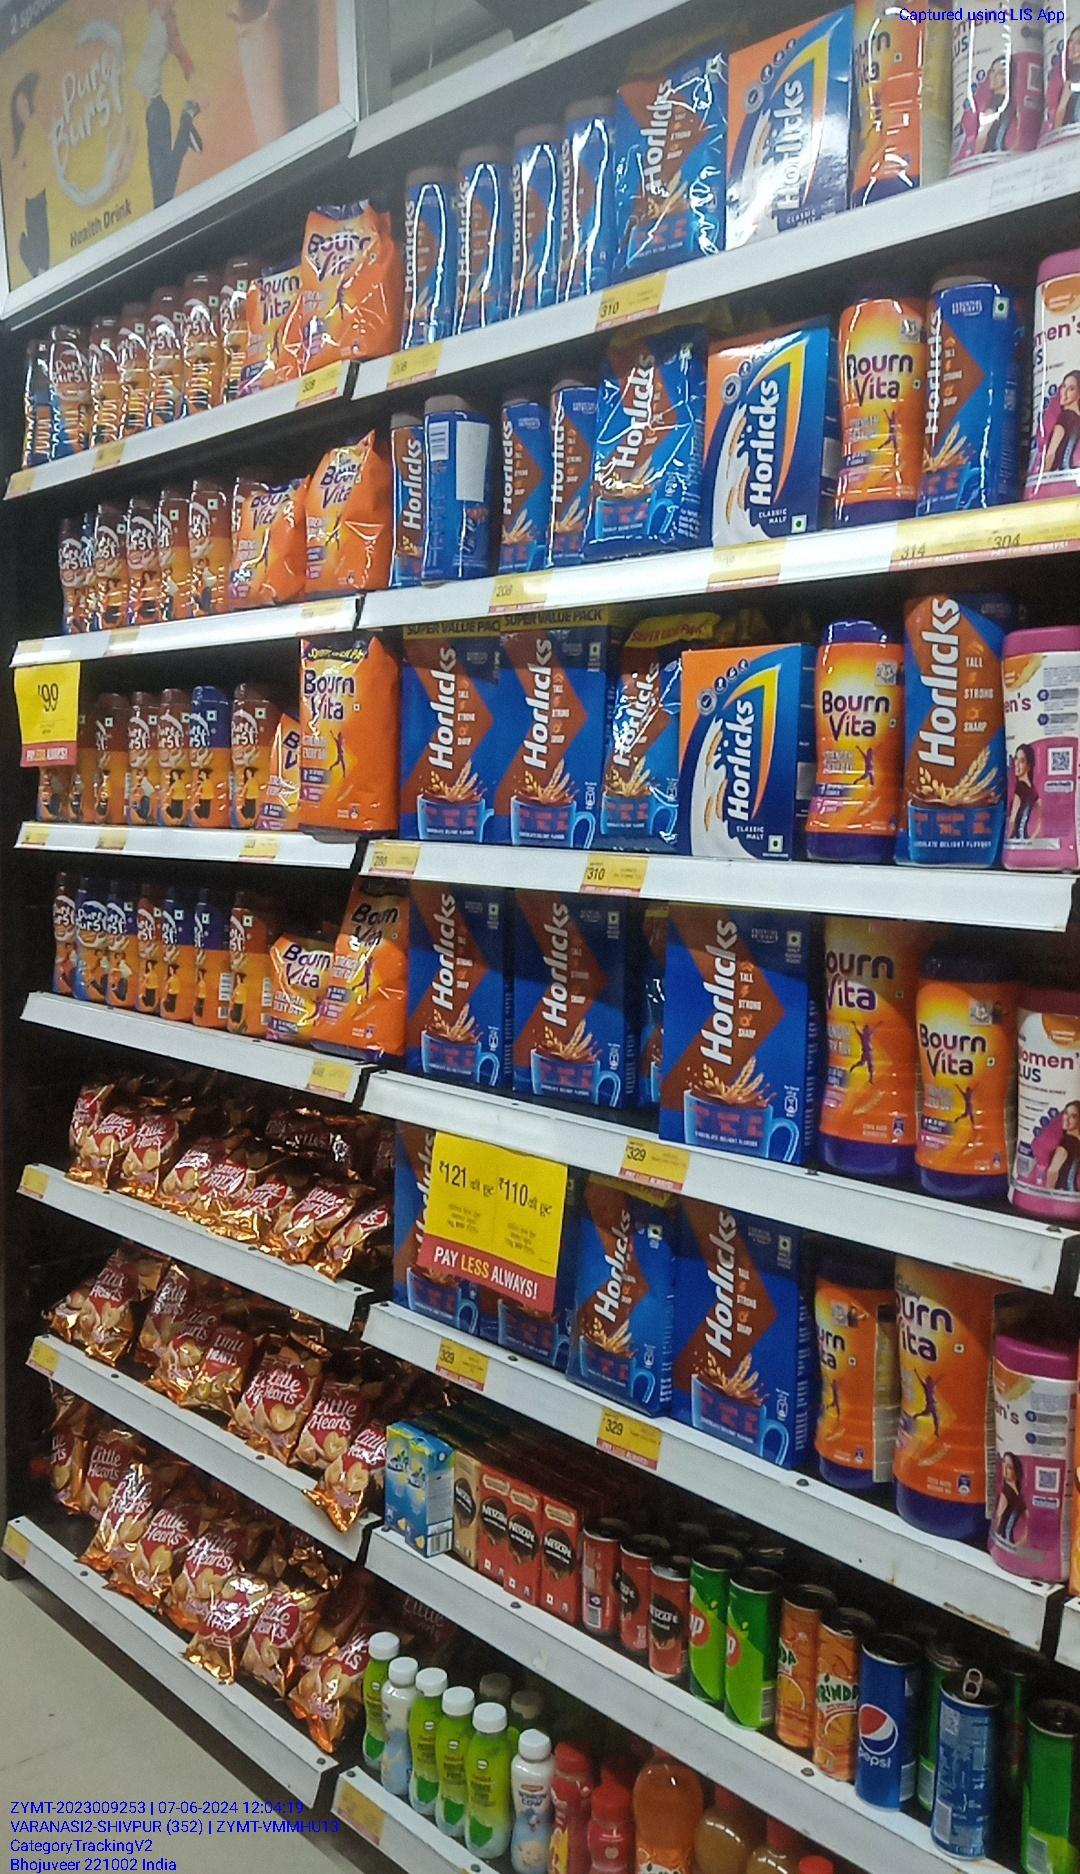HORLICK_CLASSIC_MALT_500_G_PACK: (681, 651, 803, 866), (708, 351, 824, 539), (732, 49, 843, 241)
